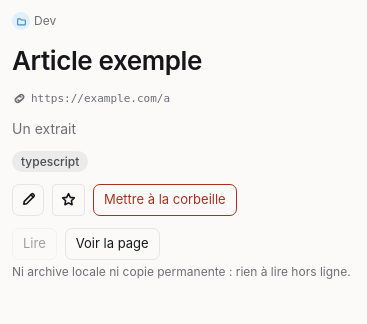
Scenario: DetailPane — après « Mettre à la corbeille » › la fiche se rafraîchit : « Dans la corbeille », « Restaurer » — plus de re-corbeille
Click the button "Mettre à la corbeille" at [165, 200], box [93, 184, 237, 216]
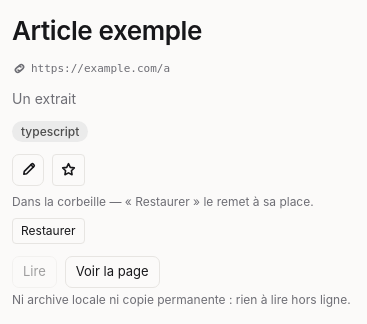
expect the button "Restaurer" is shown: met, box [12, 218, 84, 244]
expect the message shows "Dans la corbeille": met, box [12, 194, 314, 209]
expect the button "Mettre à la corbeille" is gone: met
